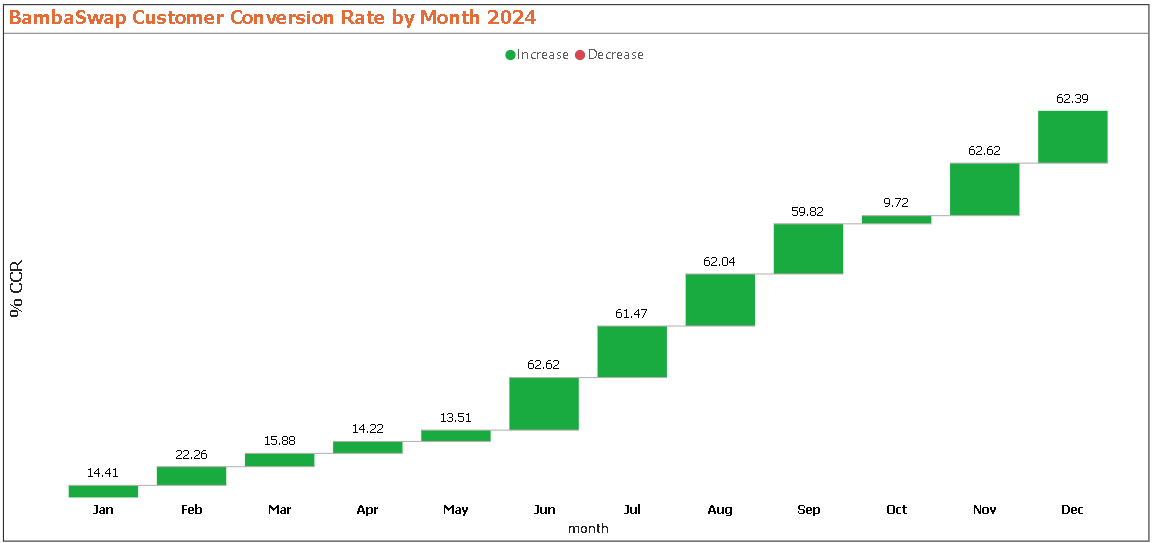

This screenshot's page, from the dashboard's own definition file:
{"tool":"powerbi","page":{"name":"CCR","canvas":[1280,720],"ordinal":1},"visuals":[{"type":"waterfallChart","title":"Customer Conversion Rate ","fields":{"Category":["Customer Conversion Rate 2024 oct.month"],"Y":["Sum(Customer Conversion Rate 2024 oct.conversion_rate)"]},"box":[41.6,78.3,1172.7,497.7],"z":0}]}

Visuals, with their boxes on the page's 1280x720 design canvas (x1, y1, x2, y2). These are canvas units, not pixel positions in the 1152x543 screenshot, which may show the page scaled, cropped or inside an application window:
"Customer Conversion Rate " waterfallChart: (left=42, top=78, right=1214, bottom=576)
